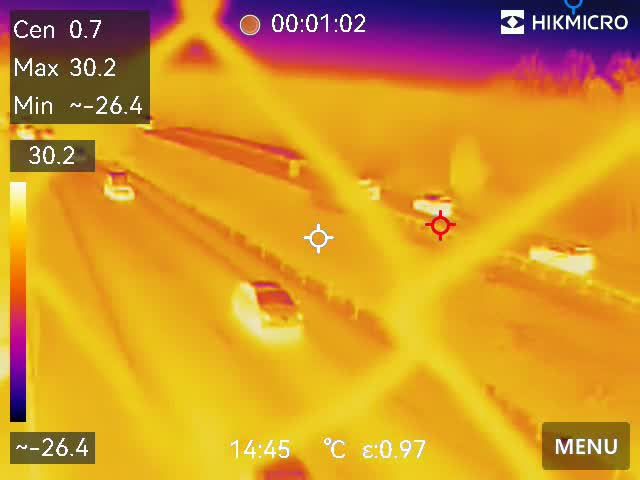largeCar: (526, 237, 605, 279)
smallCar: (229, 274, 304, 343)
vehicle: (96, 168, 140, 207), (349, 174, 382, 204)
